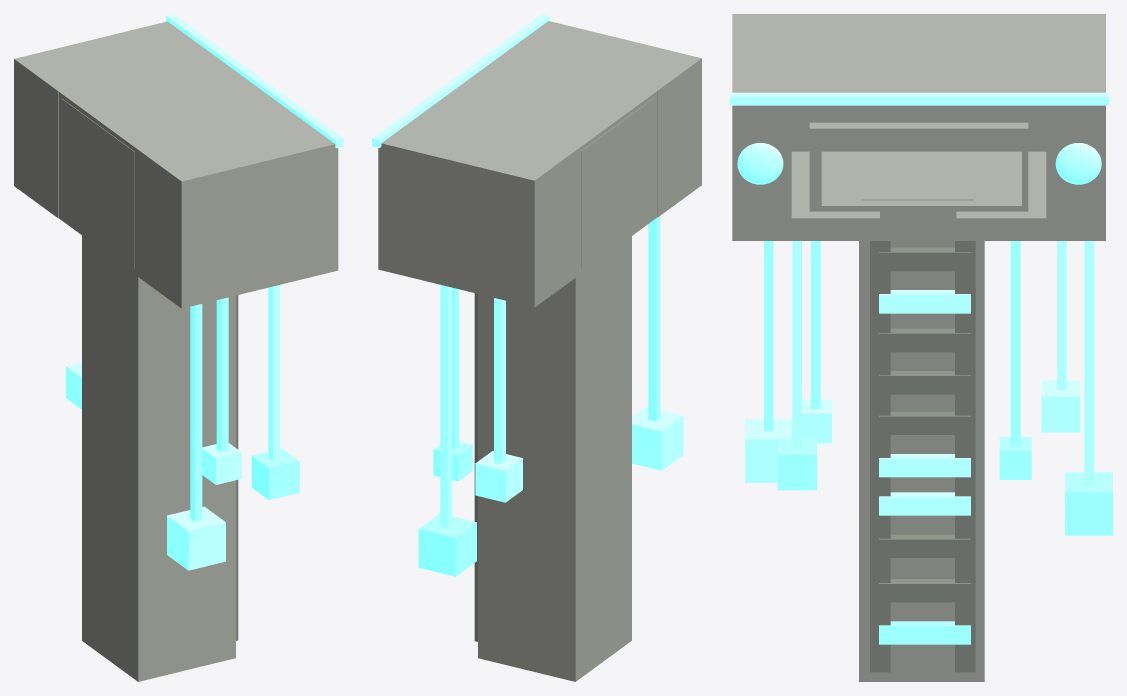
The model's file is space house 2.fbx.
The picture shows the model from 3 angles, left to right: view 1: azimuth 30°, elevation 25°; view 2: azimuth 150°, elevation 25°; view 3: azimuth 270°, elevation 25°; orthographic projection. The views are drawn at different scales.
Visible parts, largest first — view 1: Cube.029, Cube.015, Cube.035, Cube.028, Cube.031, Cube.041, Cube.038, Cube.030, Cube.037, Cube.017, Cube.036; view 2: Cube.029, Cube.015, Cube.033, Cube.039, Cube.035, Cube.028, Cube.041, Cube.032, Cube.036, Cube.034, Cube.018, Cube.040; view 3: Cube.029, Cube.015, Cube.017, Cube.018, Cube.041, Cube.039, Cube.033, Cube.035, Cube.034, Cube.025, Cube.026, Cube.016 (+17 smaller).
Boxes of the visible parts, x1=… form: Cube.029: x1=14, y1=21, x2=338, y2=308; Cube.015: x1=82, y1=235, x2=235, y2=681; Cube.035: x1=167, y1=506, x2=225, y2=570; Cube.028: x1=190, y1=304, x2=202, y2=521; Cube.031: x1=268, y1=285, x2=280, y2=460; Cube.041: x1=166, y1=14, x2=343, y2=148; Cube.038: x1=251, y1=448, x2=299, y2=499; Cube.030: x1=216, y1=297, x2=228, y2=451; Cube.037: x1=202, y1=443, x2=241, y2=484; Cube.017: x1=236, y1=295, x2=238, y2=640; Cube.036: x1=66, y1=362, x2=81, y2=409; Cube.029: x1=378, y1=21, x2=701, y2=307; Cube.015: x1=478, y1=236, x2=631, y2=681; Cube.033: x1=440, y1=285, x2=452, y2=527; Cube.039: x1=418, y1=513, x2=476, y2=576; Cube.035: x1=632, y1=407, x2=683, y2=470; Cube.028: x1=648, y1=216, x2=660, y2=421; Cube.041: x1=372, y1=14, x2=549, y2=147; Cube.032: x1=494, y1=298, x2=505, y2=463; Cube.036: x1=475, y1=451, x2=522, y2=502; Cube.034: x1=452, y1=287, x2=459, y2=449; Cube.018: x1=474, y1=293, x2=477, y2=641; Cube.040: x1=433, y1=441, x2=472, y2=481; Cube.029: x1=732, y1=14, x2=1105, y2=240; Cube.015: x1=859, y1=211, x2=984, y2=681; Cube.017: x1=870, y1=241, x2=890, y2=672; Cube.018: x1=955, y1=241, x2=975, y2=672; Cube.041: x1=730, y1=92, x2=1109, y2=105; Cube.039: x1=1065, y1=472, x2=1112, y2=535; Cube.033: x1=1084, y1=241, x2=1094, y2=485; Cube.035: x1=745, y1=419, x2=792, y2=482; Cube.034: x1=1010, y1=241, x2=1020, y2=445; Cube.025: x1=879, y1=328, x2=970, y2=352; Cube.026: x1=879, y1=247, x2=970, y2=271; Cube.016: x1=879, y1=579, x2=970, y2=602.
Bounding box in the file's own units: 373 × 1203 × 681.
